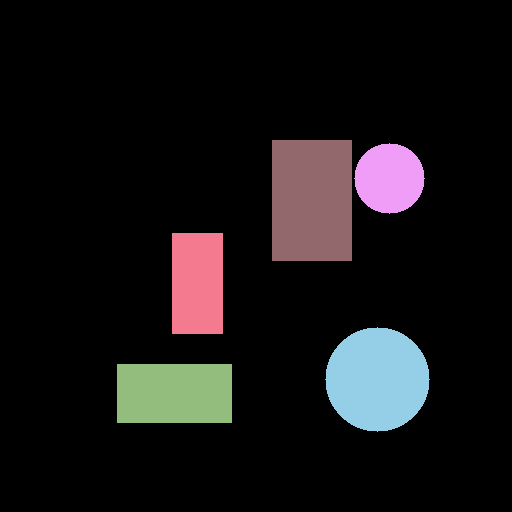circle: (325, 327, 429, 431), (354, 143, 424, 213)
rectangle: (272, 140, 351, 260), (117, 364, 231, 422), (172, 233, 222, 333)
